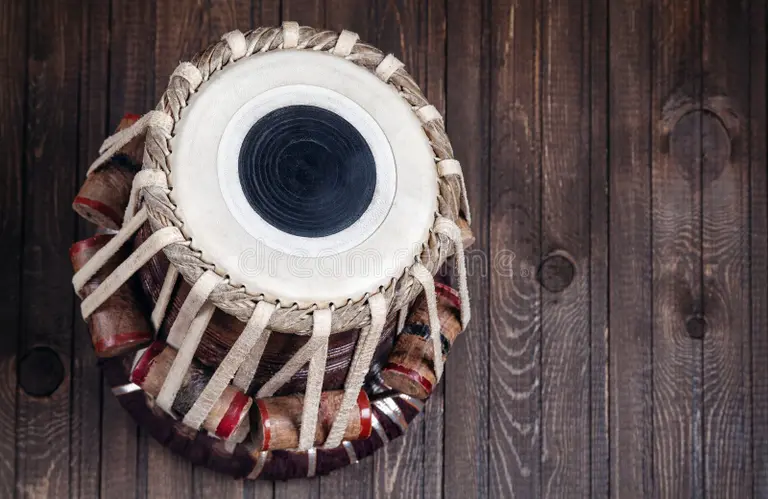tabla: (75, 23, 471, 436)
